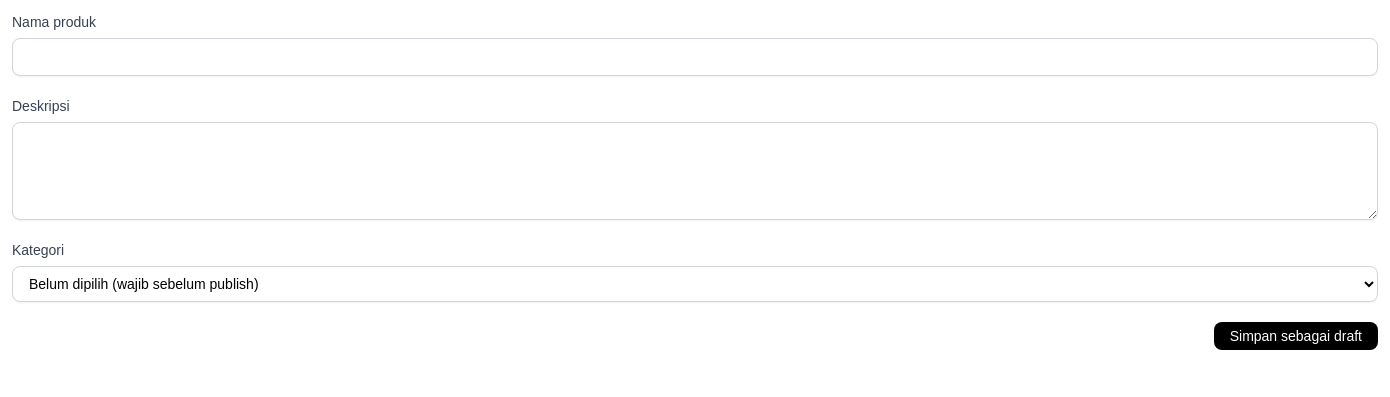
Test: ProductCreateForm › Penanganan Error Server (applyApiErrorToForm) › memetakan VALIDATION_ERROR field dikenal ke input terkait
Step 1. Type "Produk Duplikat" into the field labelled "Nama produk" → (695, 57), box [12,38,1378,76]
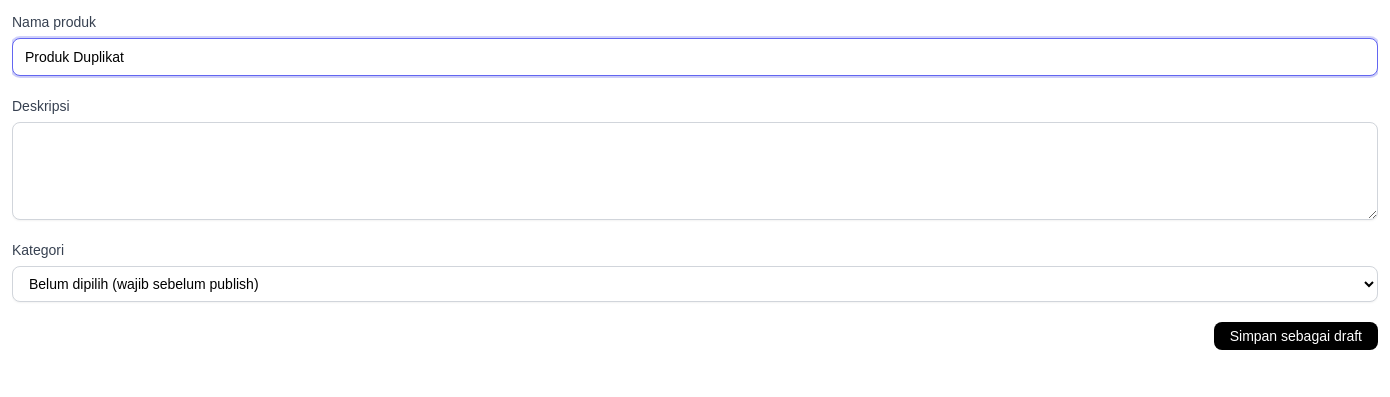
Step 2. Click the button "Simpan sebagai draft" → (1296, 336), box [1214,322,1378,350]
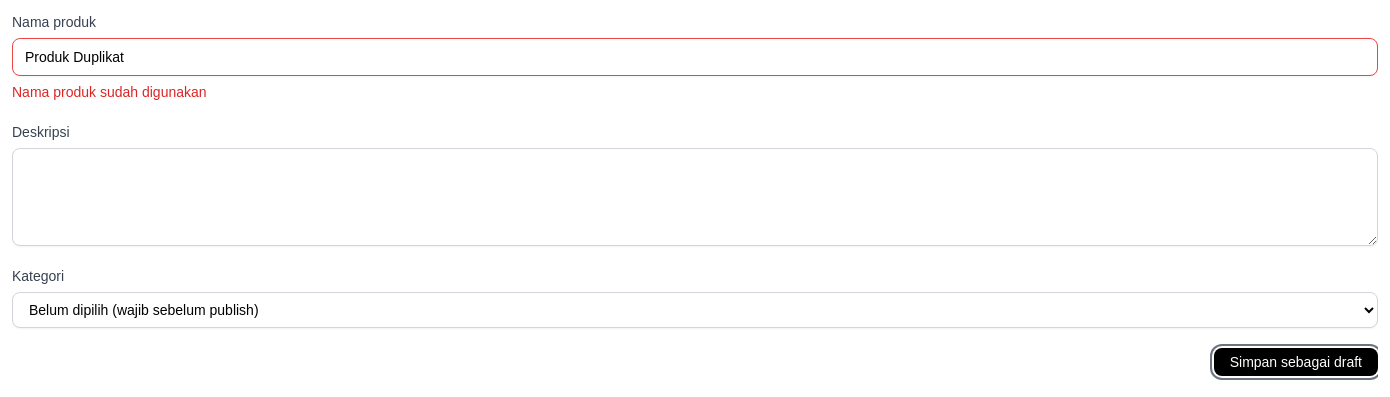
Expected: the text "Nama produk sudah digunakan" is shown, [12,84,207,100]
